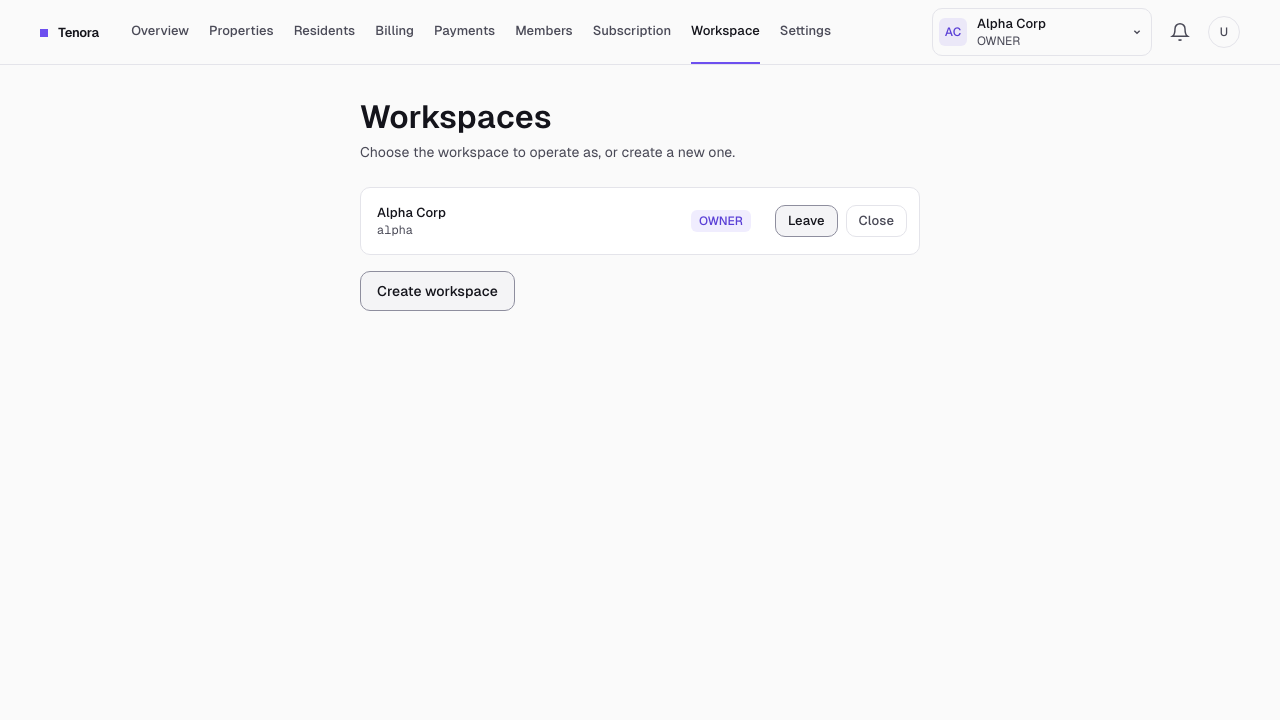
it: WorkspacePage › renders a duplicate-slug error inline on the field, not as a toast
Step 1. Click the button "Create workspace" → coordinates (437, 291), box [360,271,515,311]
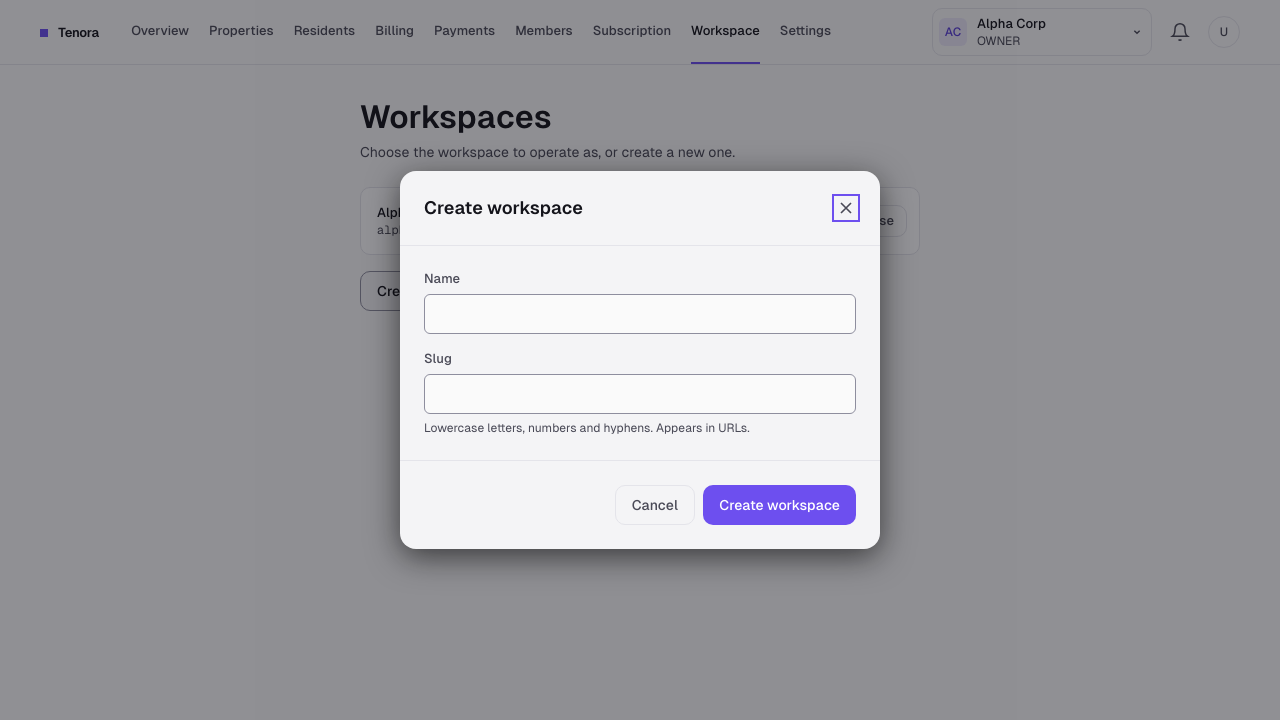
Step 2. Type "Alpha Two" into the field labelled "Name" → coordinates (640, 314), box [424,294,856,334]
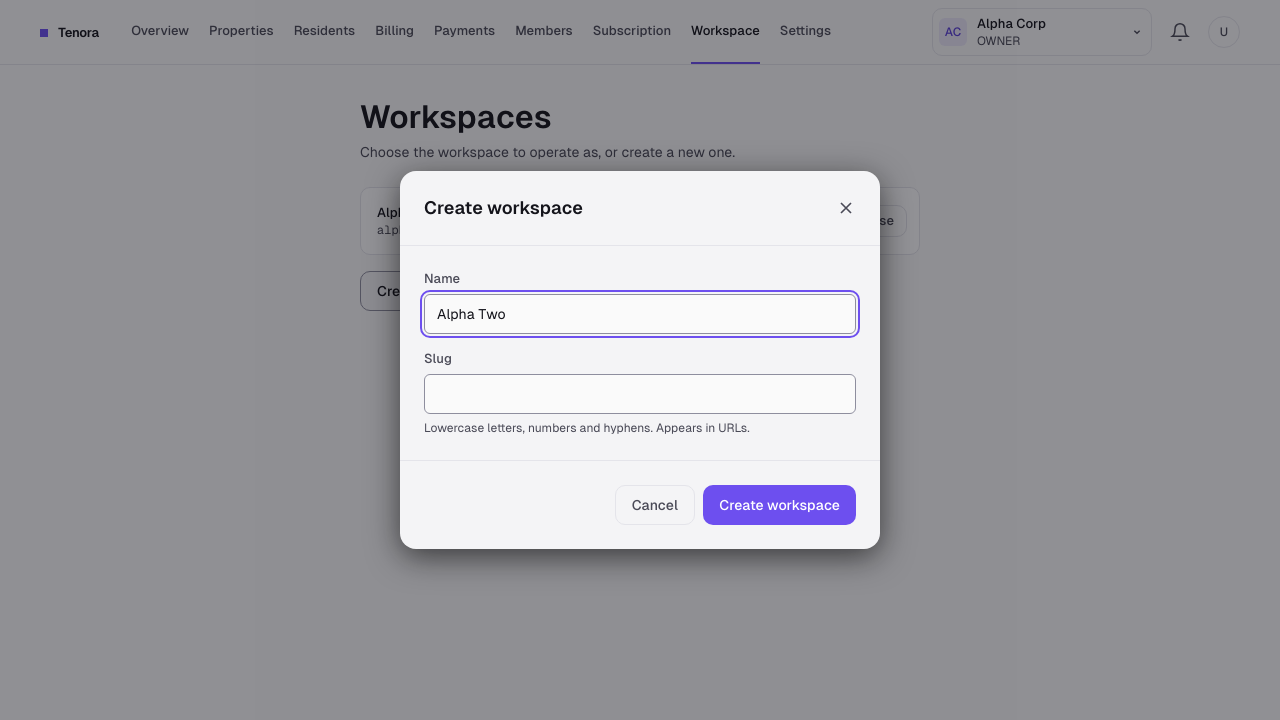
Step 3. Type "alpha" into the field labelled "Slug" → coordinates (640, 394), box [424,374,856,414]
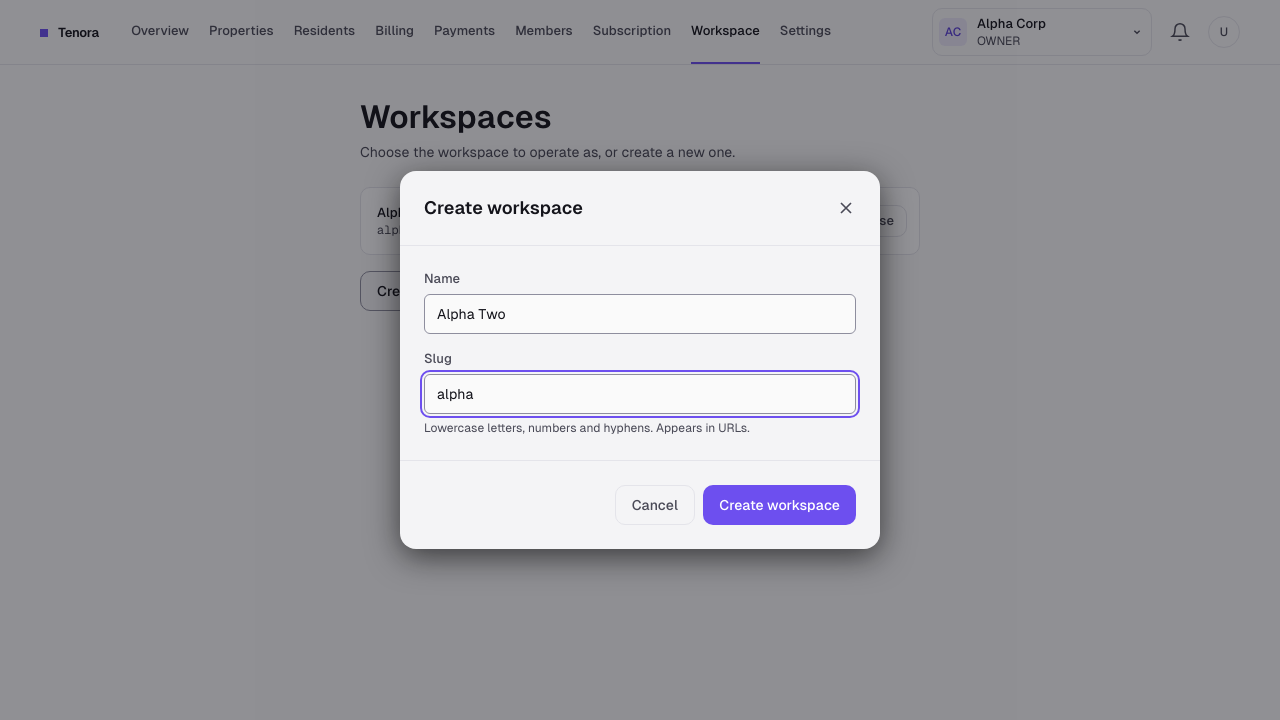
Step 4. Click the button "Create workspace" → coordinates (780, 505), box [703,485,856,525]
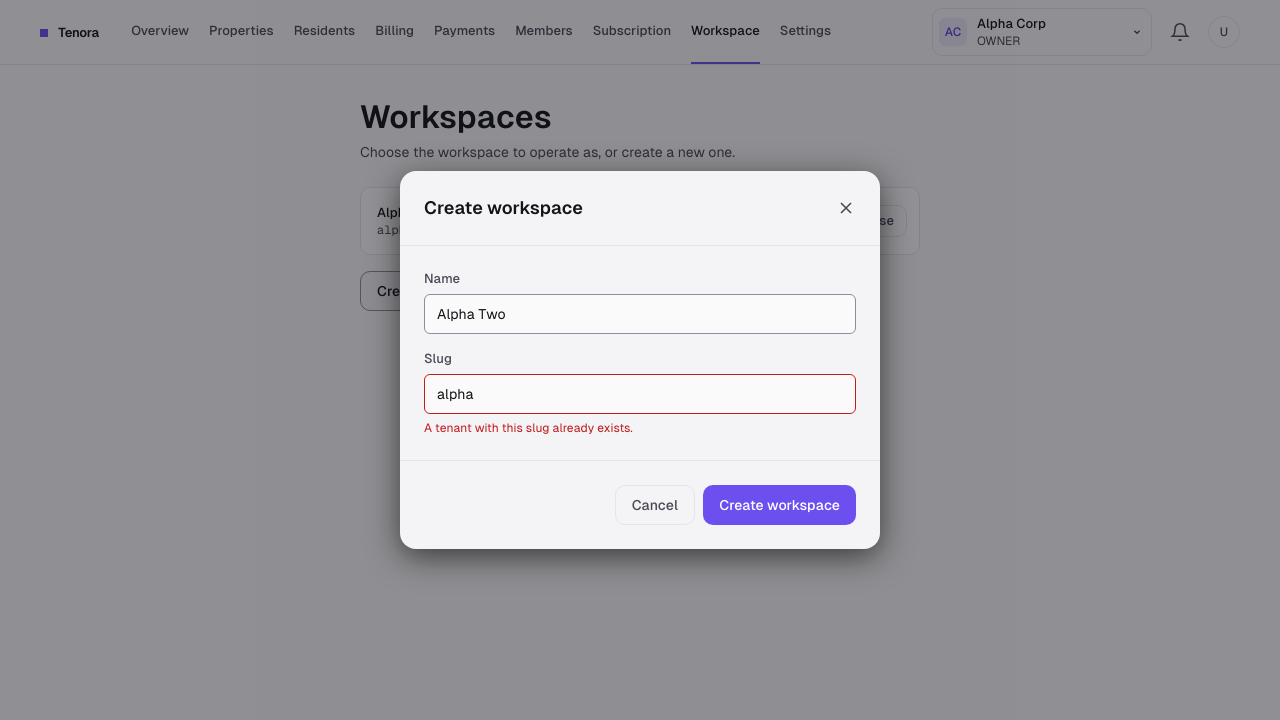
Check: the dialog is shown, box [400,171,880,549]
Check: the text "A tenant with this slug already exists." is shown, box [424,421,633,435]
